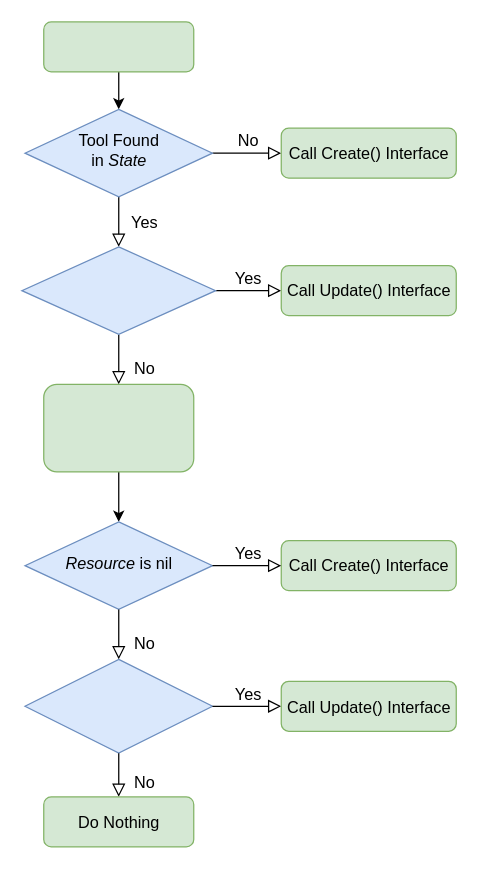
Some shapes in this 479 by 869 pixel diagram are drawn without their labels. The shapes that lost their labels are listed below. From the top down, each one's box as (x1, y1, x2, y2) in pixels, then its label:
(42, 21, 194, 72): Get Tool's State
(21, 246, 216, 334): C onfig differs from State
(42, 383, 194, 472): Call Read() Interface to Get a Description of the Resource
(24, 658, 212, 753): Resource differs from State
